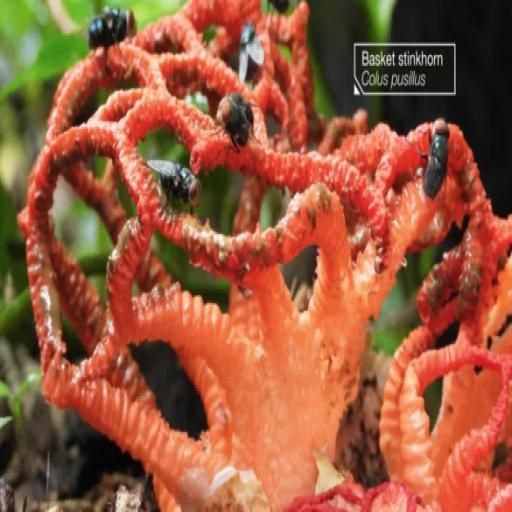Red Cage Fungus: (24, 1, 511, 510)
